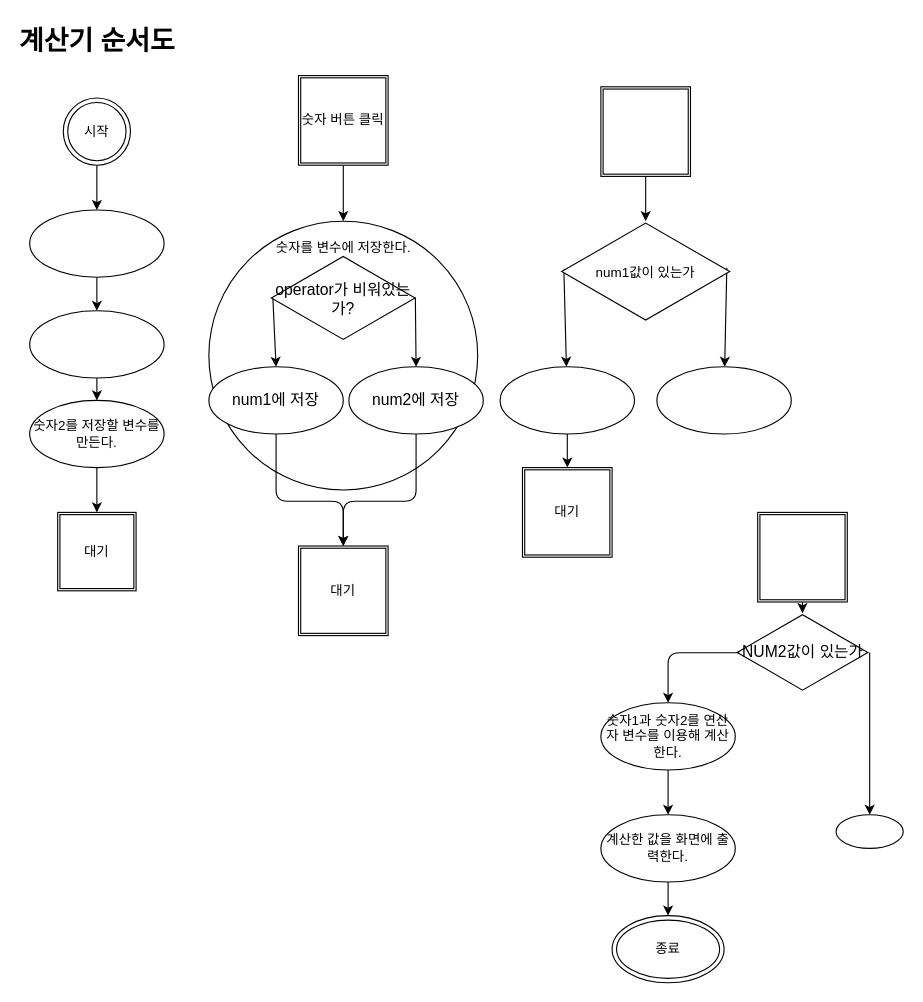
Some shapes in this 923 by 1002 pixel diagram are drawn without their labels. Here are the shapes that lost their labels. From the top down, the centre of each, then its label:
At [645,131]: "연산자 버튼 클릭".
At [96,243]: "숫자1를 저장할 변수를 만든다.".
At [96,344]: "연산자를 저장할 변수를 만든다.".
At [566,400]: "연산자를 변수에 저장".
At [723,400]: "경고를 준다.".
At [802,556]: "= 버튼 클릭".
At [869,831]: "경고".
